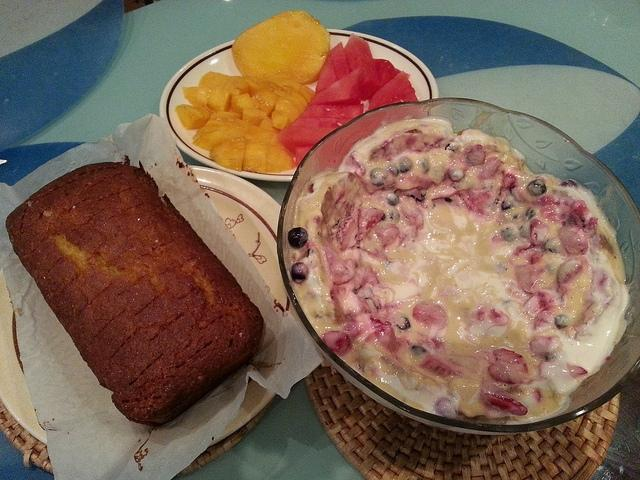blueberry: (288, 227, 308, 248), (292, 262, 309, 284), (527, 179, 547, 196), (370, 167, 387, 186), (501, 224, 518, 242), (544, 237, 562, 252), (409, 345, 431, 357), (394, 316, 412, 330), (554, 314, 569, 328), (399, 156, 412, 172), (386, 192, 399, 206), (559, 180, 578, 189), (450, 169, 464, 180), (386, 164, 398, 176), (387, 211, 400, 222), (544, 352, 556, 362), (493, 196, 500, 205)
strawberry: (418, 354, 504, 382), (513, 243, 557, 294), (329, 283, 371, 324), (488, 349, 528, 384), (325, 246, 358, 285), (482, 390, 528, 416), (522, 288, 562, 316), (413, 300, 447, 330), (456, 189, 491, 217), (356, 208, 384, 242), (558, 225, 588, 256), (570, 200, 598, 230), (335, 216, 357, 252), (322, 330, 352, 356), (541, 204, 571, 228), (474, 306, 508, 326), (557, 260, 583, 286), (530, 336, 562, 356), (376, 224, 400, 249), (370, 139, 397, 161), (528, 218, 548, 246), (534, 306, 557, 330), (344, 151, 366, 176), (464, 144, 487, 167), (404, 128, 425, 153), (424, 184, 456, 200), (435, 398, 458, 420), (480, 156, 501, 180), (397, 204, 422, 224), (369, 314, 392, 330), (432, 194, 462, 206), (359, 269, 378, 287), (567, 363, 588, 379), (502, 172, 516, 190)
watermelon: (343, 33, 382, 101), (307, 68, 363, 107), (368, 58, 411, 104), (368, 70, 415, 108), (278, 126, 336, 155), (365, 92, 419, 112), (316, 51, 338, 94), (300, 104, 364, 118), (330, 42, 351, 81), (289, 116, 353, 128), (294, 146, 312, 168)
